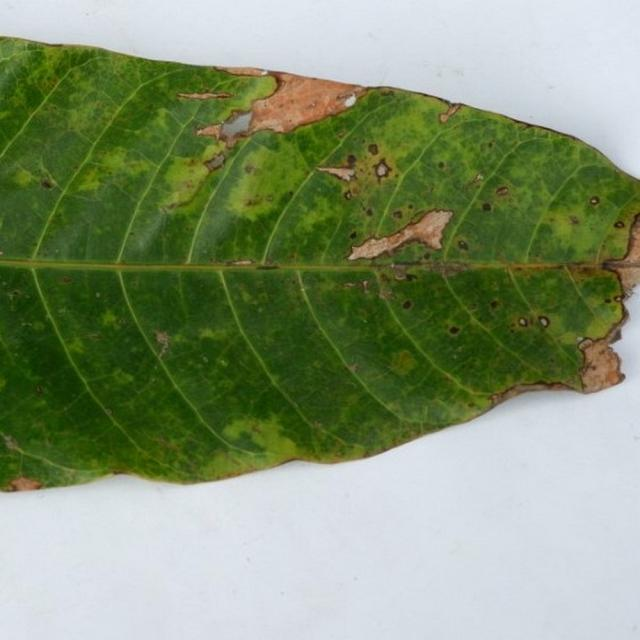Mango: (0, 38, 639, 490)
Powdery_Mildew: (428, 279, 544, 342), (181, 167, 258, 256), (221, 158, 283, 218), (158, 150, 222, 208), (80, 143, 155, 187), (118, 205, 177, 260), (596, 196, 639, 267), (572, 336, 624, 392), (156, 97, 215, 136), (218, 413, 280, 447), (73, 162, 121, 194), (346, 234, 399, 262), (602, 260, 640, 297), (473, 182, 513, 216), (218, 109, 255, 145), (96, 300, 123, 336), (314, 162, 358, 183), (176, 90, 239, 101), (389, 350, 417, 374), (10, 166, 40, 188), (5, 476, 43, 491), (153, 329, 171, 359), (438, 102, 462, 124), (372, 158, 393, 182), (197, 326, 227, 342), (204, 151, 226, 172), (462, 173, 483, 194), (342, 279, 371, 293), (2, 434, 22, 452), (377, 284, 396, 301), (390, 265, 408, 281), (608, 327, 623, 343), (359, 201, 373, 217), (422, 185, 435, 198), (488, 393, 501, 405), (159, 203, 173, 214), (41, 178, 55, 189), (7, 290, 22, 300), (305, 101, 320, 111), (346, 362, 358, 374), (438, 112, 450, 124), (495, 186, 509, 196), (368, 143, 379, 155), (346, 154, 357, 165), (458, 240, 469, 251), (448, 325, 460, 335), (568, 215, 580, 225), (584, 363, 597, 372), (405, 273, 418, 282), (244, 164, 255, 174), (402, 300, 413, 310), (481, 202, 492, 212), (490, 299, 500, 309), (473, 173, 483, 183), (589, 196, 600, 205), (380, 89, 394, 96), (60, 276, 72, 284), (614, 221, 625, 229), (34, 386, 43, 395), (393, 210, 402, 219), (336, 130, 346, 138), (298, 286, 308, 294), (437, 161, 445, 170), (344, 191, 352, 200), (614, 295, 624, 302), (104, 408, 112, 416), (349, 231, 357, 239), (423, 252, 431, 260), (220, 359, 228, 366), (202, 356, 209, 363), (487, 141, 494, 148), (615, 168, 622, 175), (128, 231, 135, 237), (604, 298, 612, 303), (407, 204, 413, 209), (96, 292, 101, 297), (0, 251, 4, 256)
